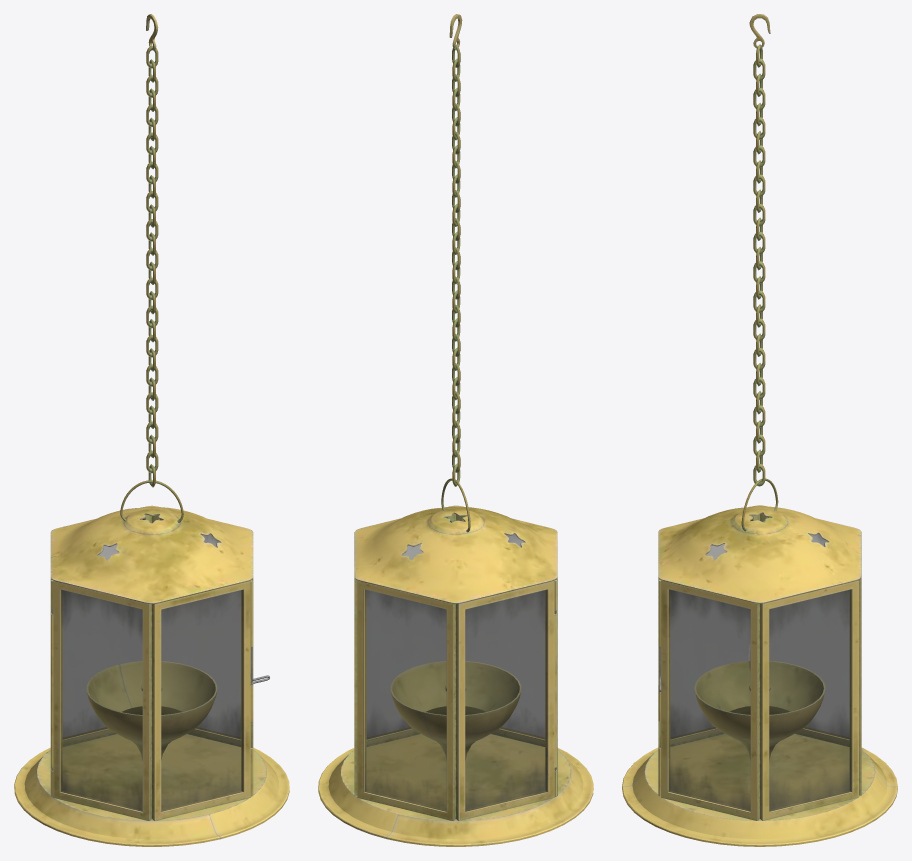
Rendered from diya_lantern.glb.
3 renders of one model, left to right at view 1: azimuth 30°, elevation 25°; view 2: azimuth 150°, elevation 25°; view 3: azimuth 270°, elevation 25°, orthographic.
Visible parts, largest first — view 1: brass_diya_lantern, brass_diya_lantern_chain; view 2: brass_diya_lantern, brass_diya_lantern_chain; view 3: brass_diya_lantern, brass_diya_lantern_chain.
Boxes of the visible parts, bbox=[...] form: brass_diya_lantern: bbox=[14, 505, 289, 846]; brass_diya_lantern_chain: bbox=[146, 14, 158, 487]; brass_diya_lantern: bbox=[318, 505, 593, 846]; brass_diya_lantern_chain: bbox=[449, 14, 462, 486]; brass_diya_lantern: bbox=[622, 505, 897, 846]; brass_diya_lantern_chain: bbox=[749, 14, 770, 486].
Size of the model in its own units: 0.123 by 0.3808 by 0.123.
3 materials, 3 textured.
